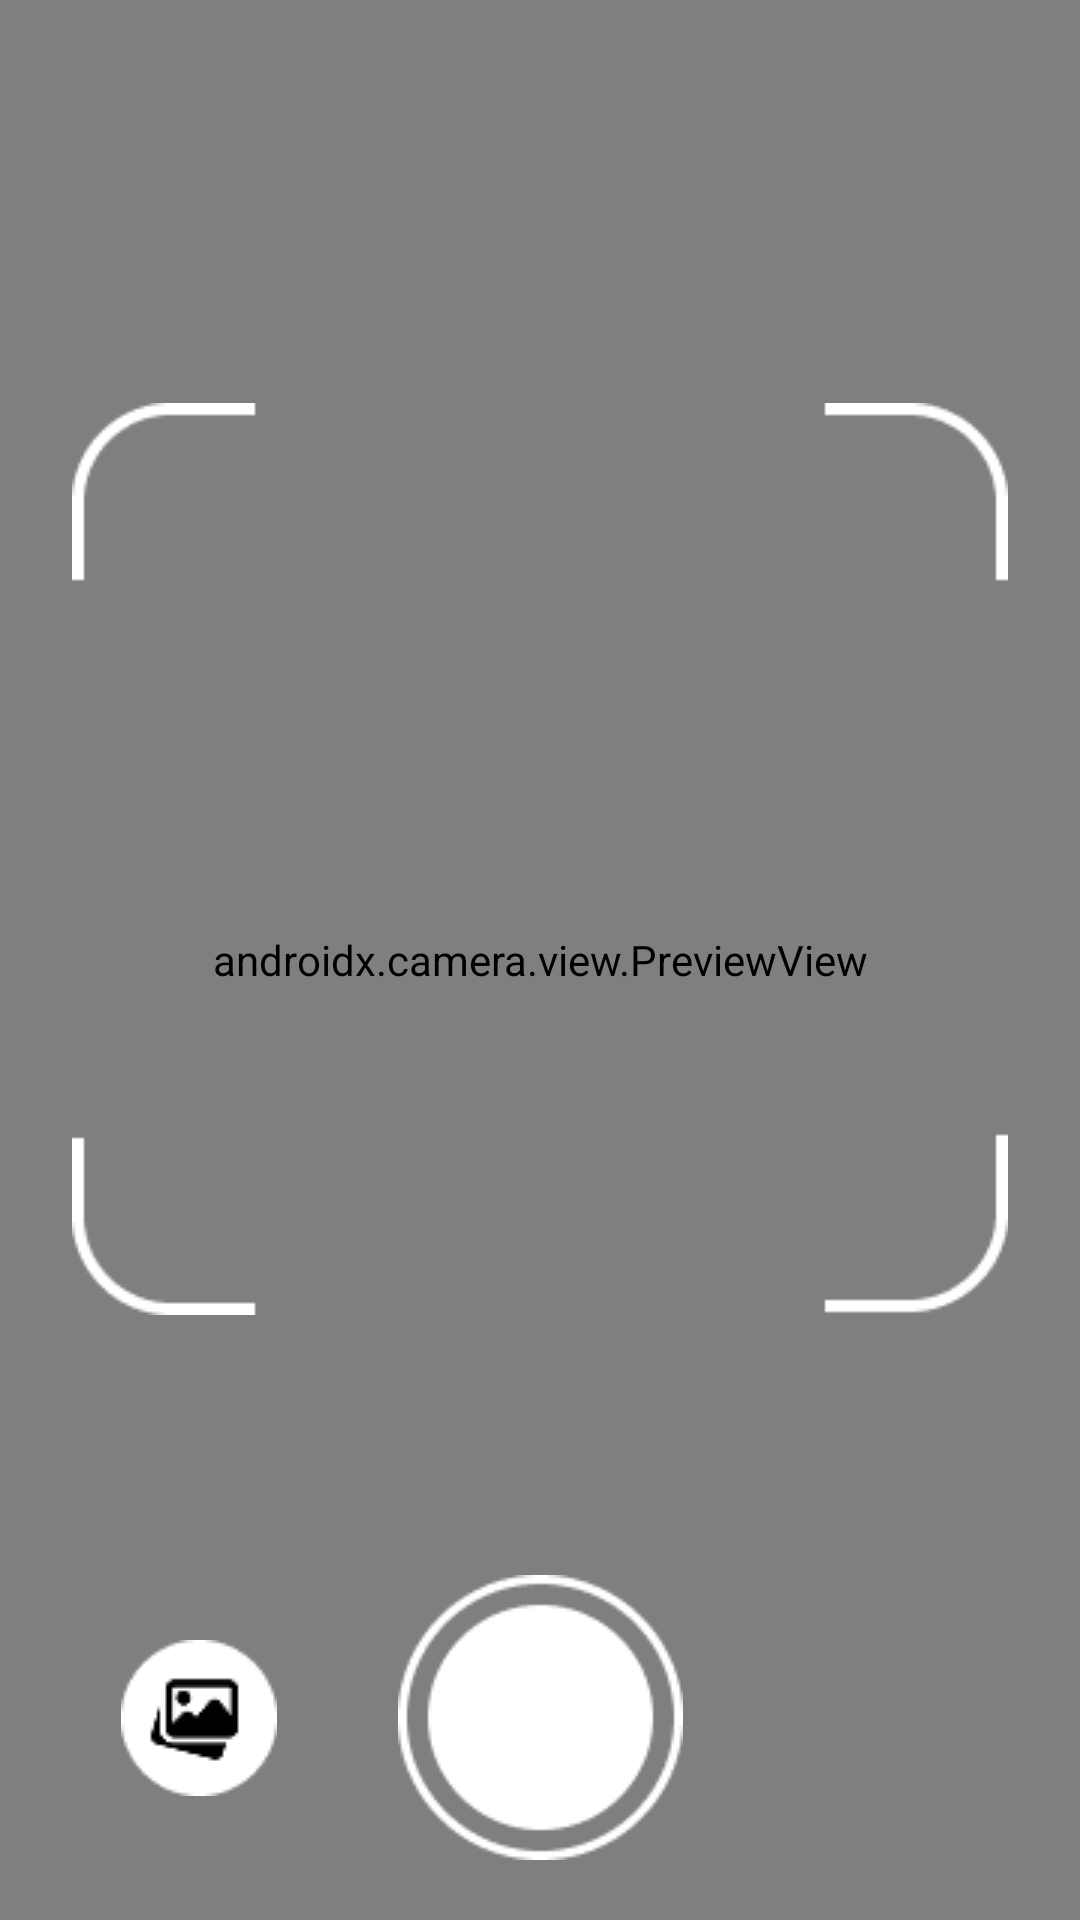

Screen size 1080 x 1920. Icon name, then its center in pixels as [x,y]:
camera capture: [540,1717]
gallery: [199,1718]
